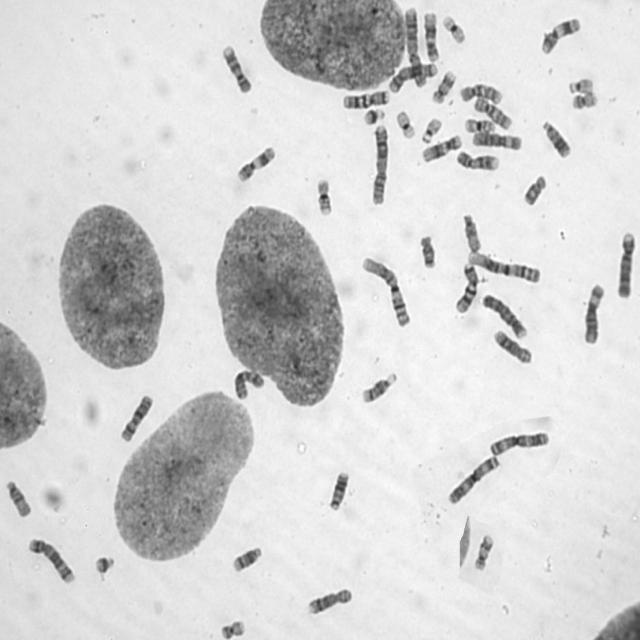A1: (358, 253, 413, 328), (464, 247, 543, 285)
A2: (402, 4, 428, 89), (367, 121, 390, 206)
A3: (445, 452, 501, 506), (486, 427, 551, 458)
B4: (480, 290, 529, 340), (614, 228, 638, 300)
B5: (26, 535, 77, 586), (386, 60, 439, 94)
C10: (472, 94, 513, 131), (457, 80, 504, 105)
C11: (234, 143, 278, 185), (537, 15, 582, 56)
C12: (419, 131, 464, 163), (422, 9, 441, 62)
C6: (580, 281, 608, 346), (468, 129, 524, 151)
C7: (452, 260, 480, 315), (340, 88, 391, 110)
C8: (491, 326, 534, 366), (304, 584, 354, 617)
C9: (219, 42, 253, 94), (454, 146, 500, 172)
D13: (540, 118, 572, 160), (326, 468, 350, 512)
D14: (358, 369, 398, 404), (230, 543, 264, 574)
D15: (4, 477, 34, 519), (460, 211, 482, 254)
E16: (313, 175, 334, 217), (462, 115, 496, 135)
E17: (471, 531, 495, 572), (430, 68, 457, 104)
E18: (520, 171, 547, 208), (416, 232, 438, 270)
F19: (440, 12, 468, 45), (395, 107, 417, 140)
F20: (570, 89, 599, 110), (218, 620, 247, 640)
G21: (93, 550, 116, 576), (361, 105, 387, 126)
G22: (419, 114, 443, 144), (566, 74, 594, 95)
X: (117, 391, 154, 443), (230, 366, 266, 402)
